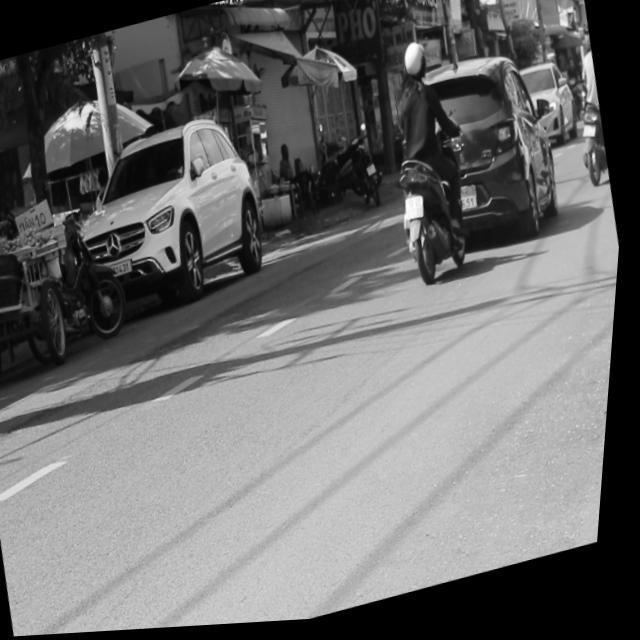helmet: (398, 43, 432, 90)
licenseplate: (363, 35, 494, 296)
nohelmet: (405, 199, 429, 225)
